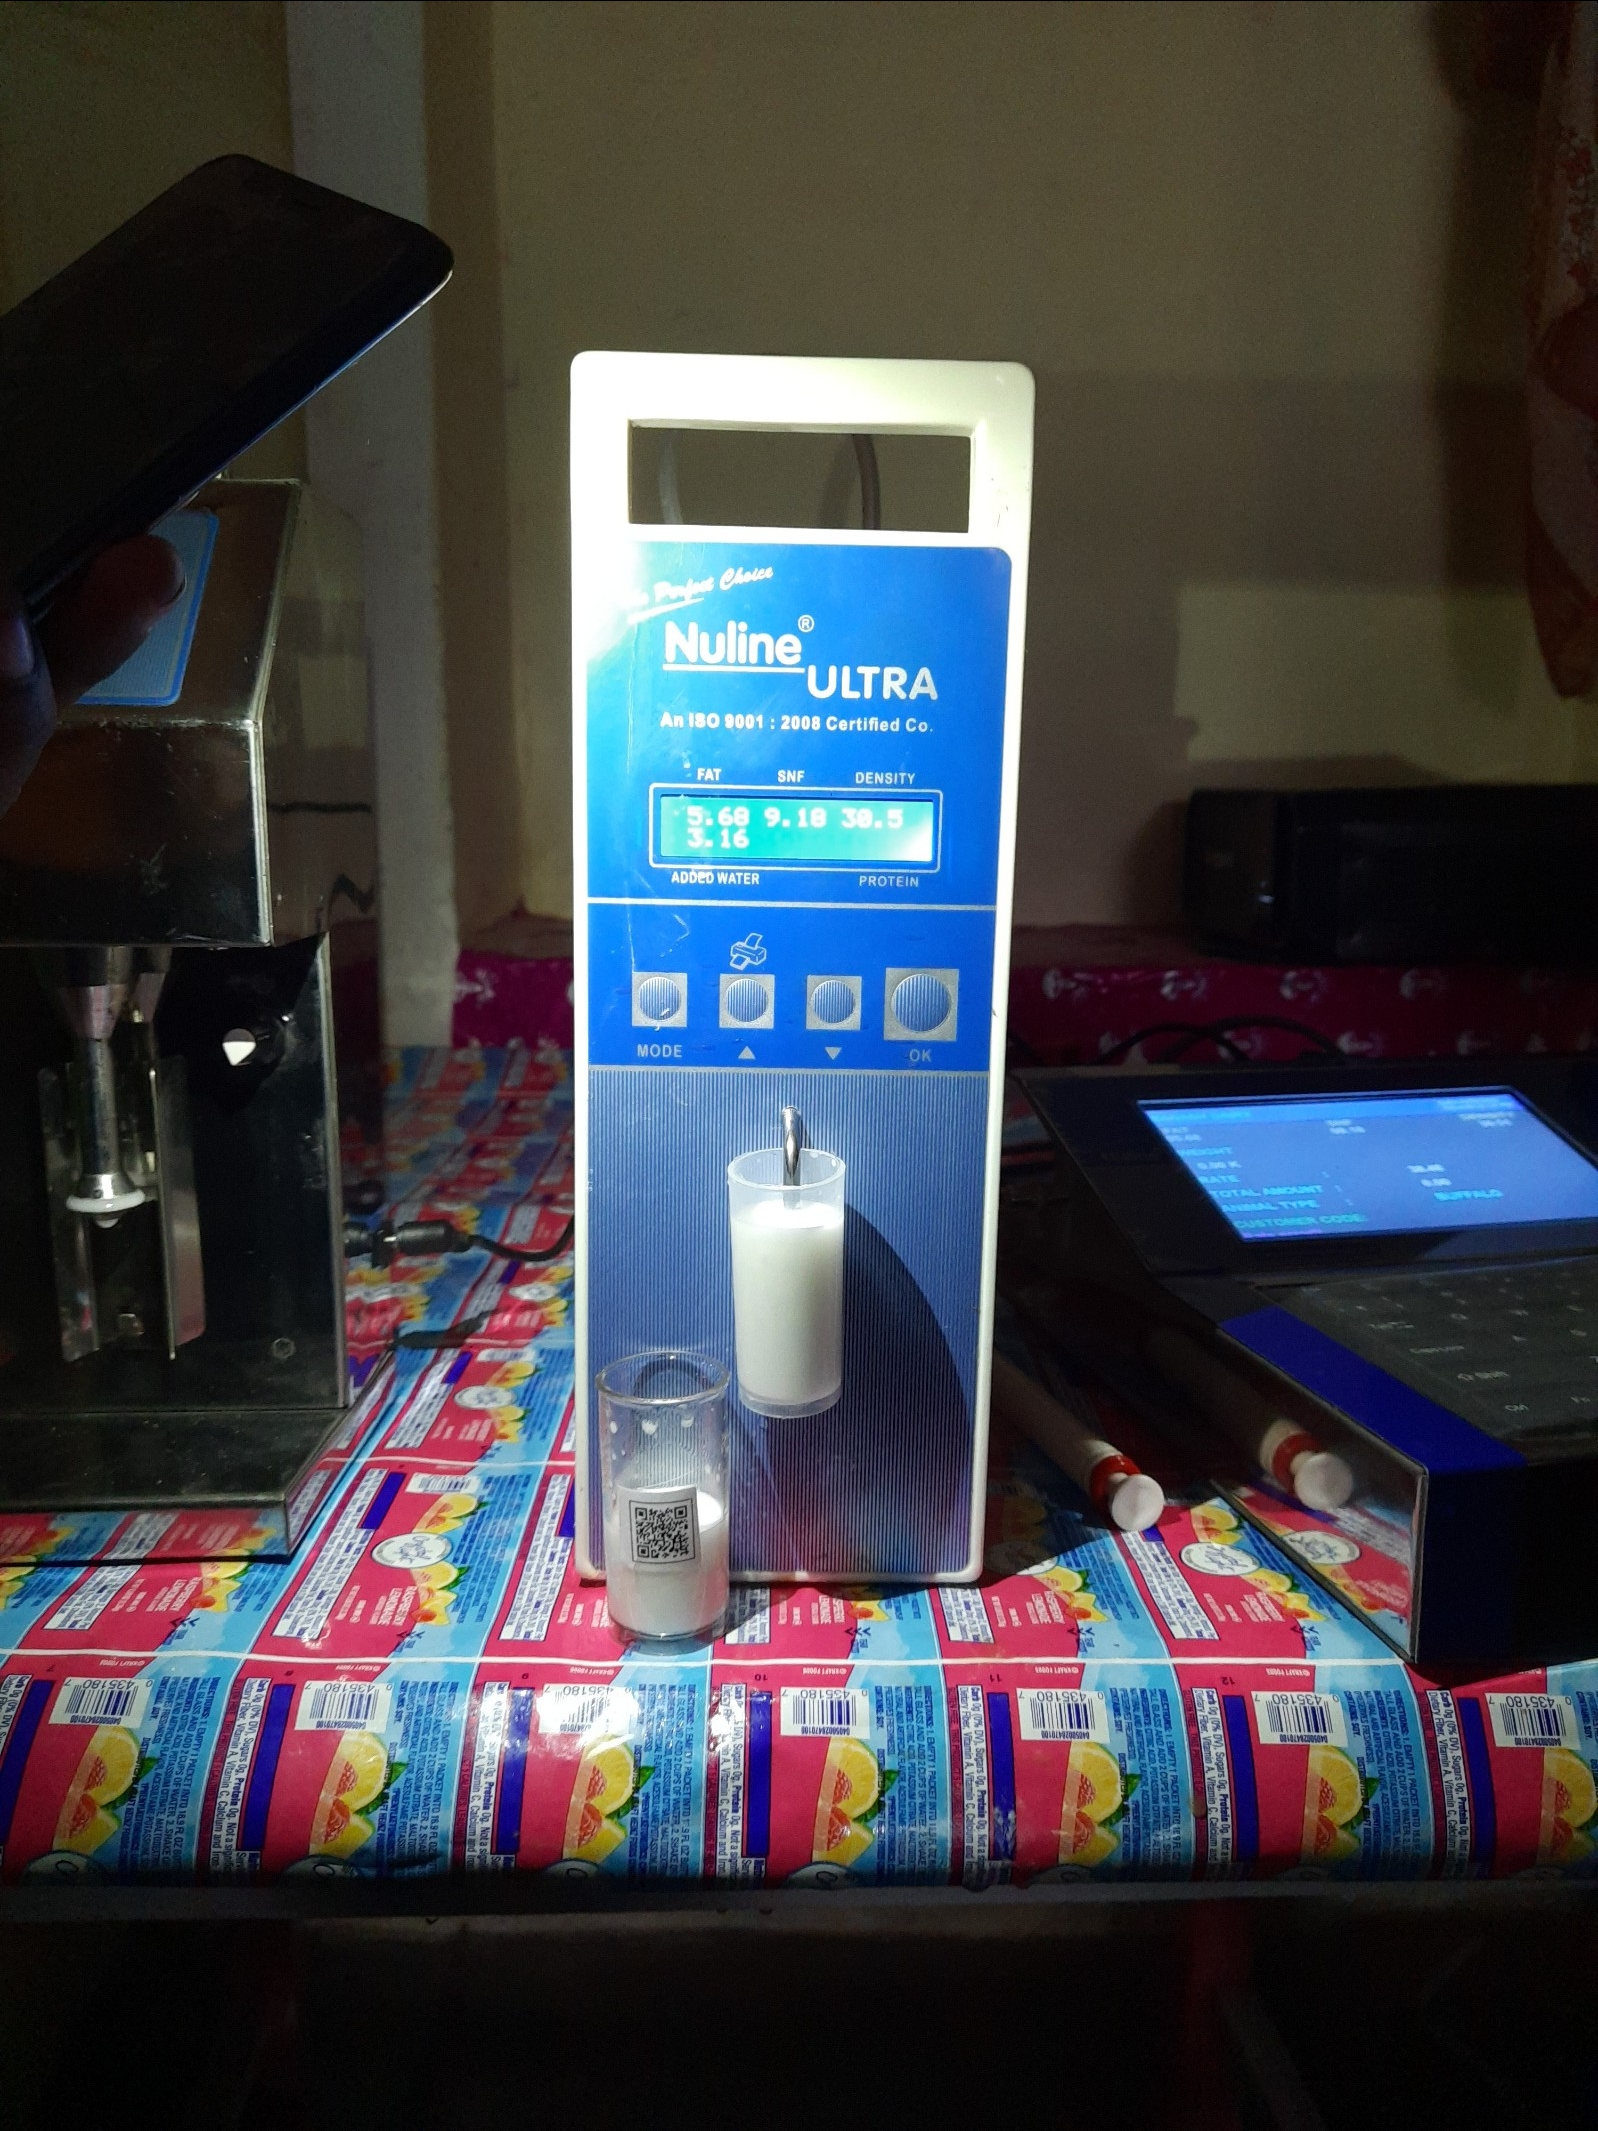lcd: (648, 794, 952, 874)
qr: (619, 1493, 717, 1574)
